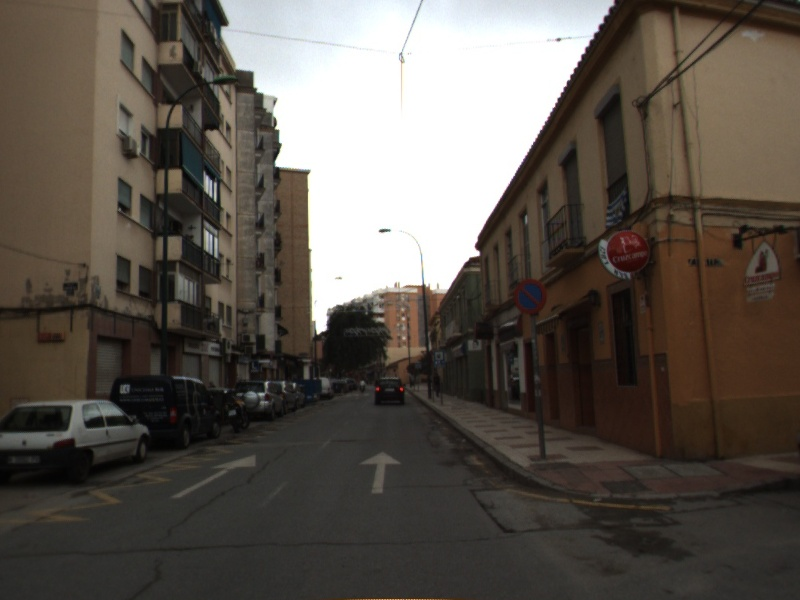STRAIGHT: (167, 451, 258, 501), (356, 449, 404, 496)
